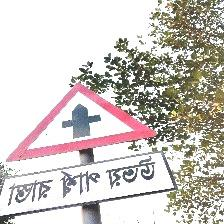Crossroad: (2, 81, 171, 219)
